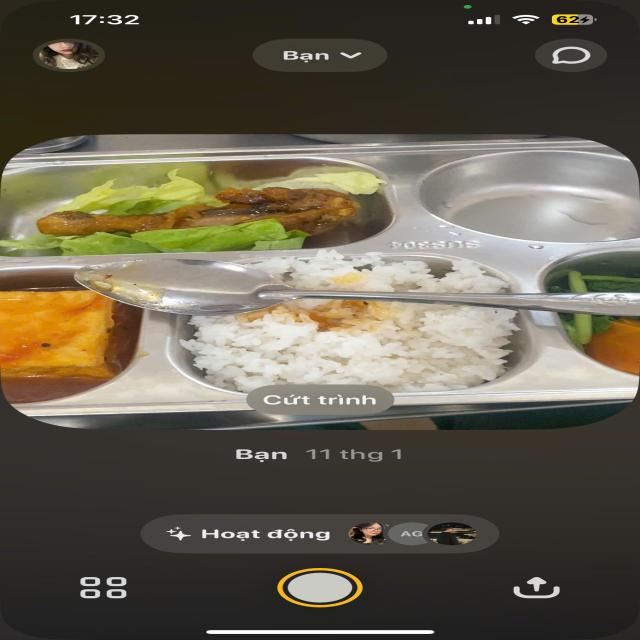dau_hu_sot_ca: (0, 274, 118, 400)
ga_chien: (11, 170, 389, 244)
